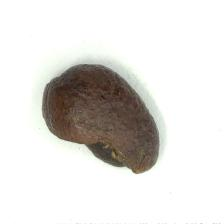NG: (51, 130, 139, 176)
